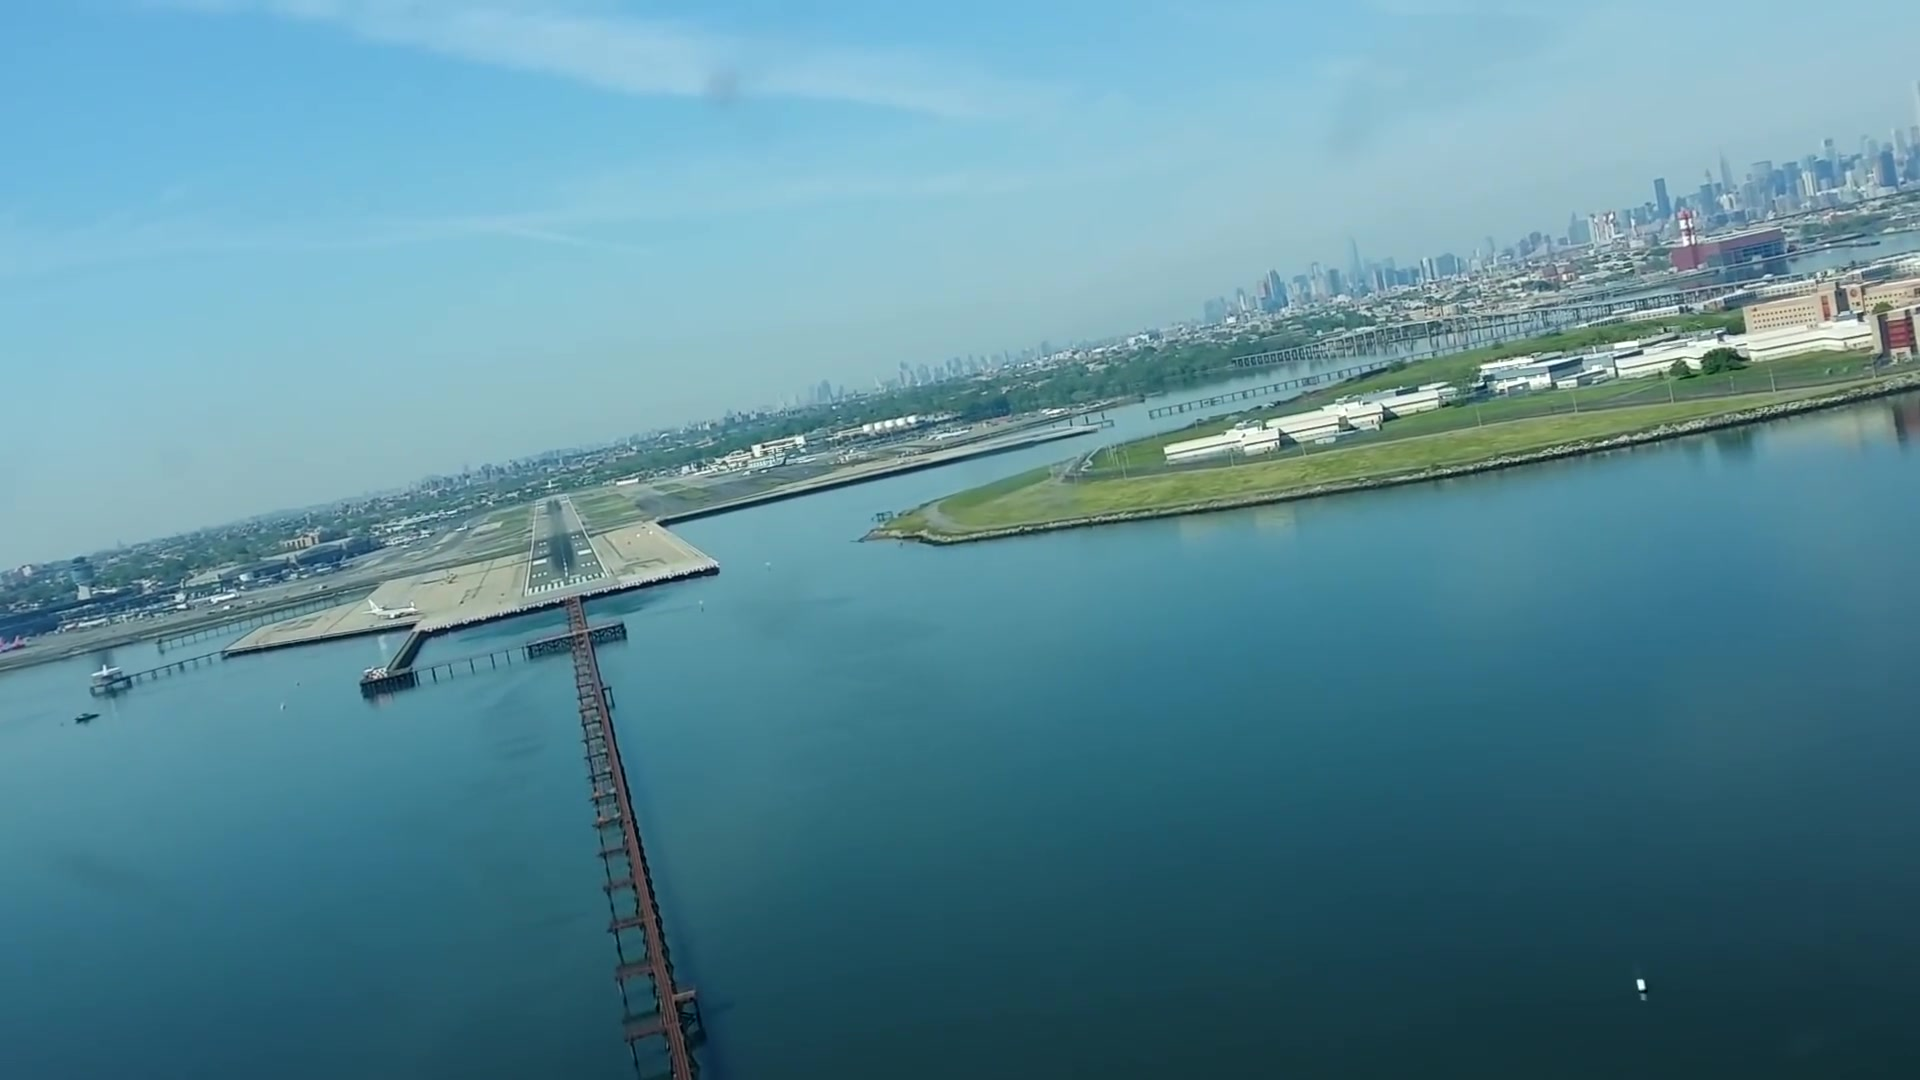entrance: (527, 568, 608, 596)
runway: (524, 495, 611, 603)
